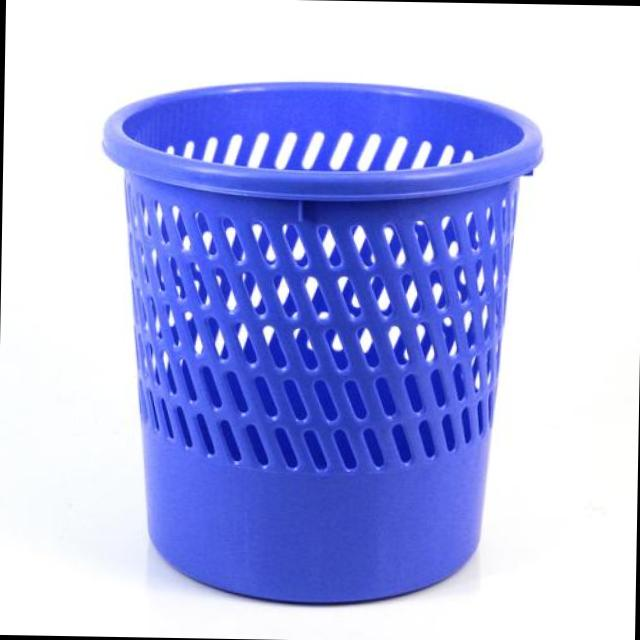dustbin: (91, 69, 552, 614)
